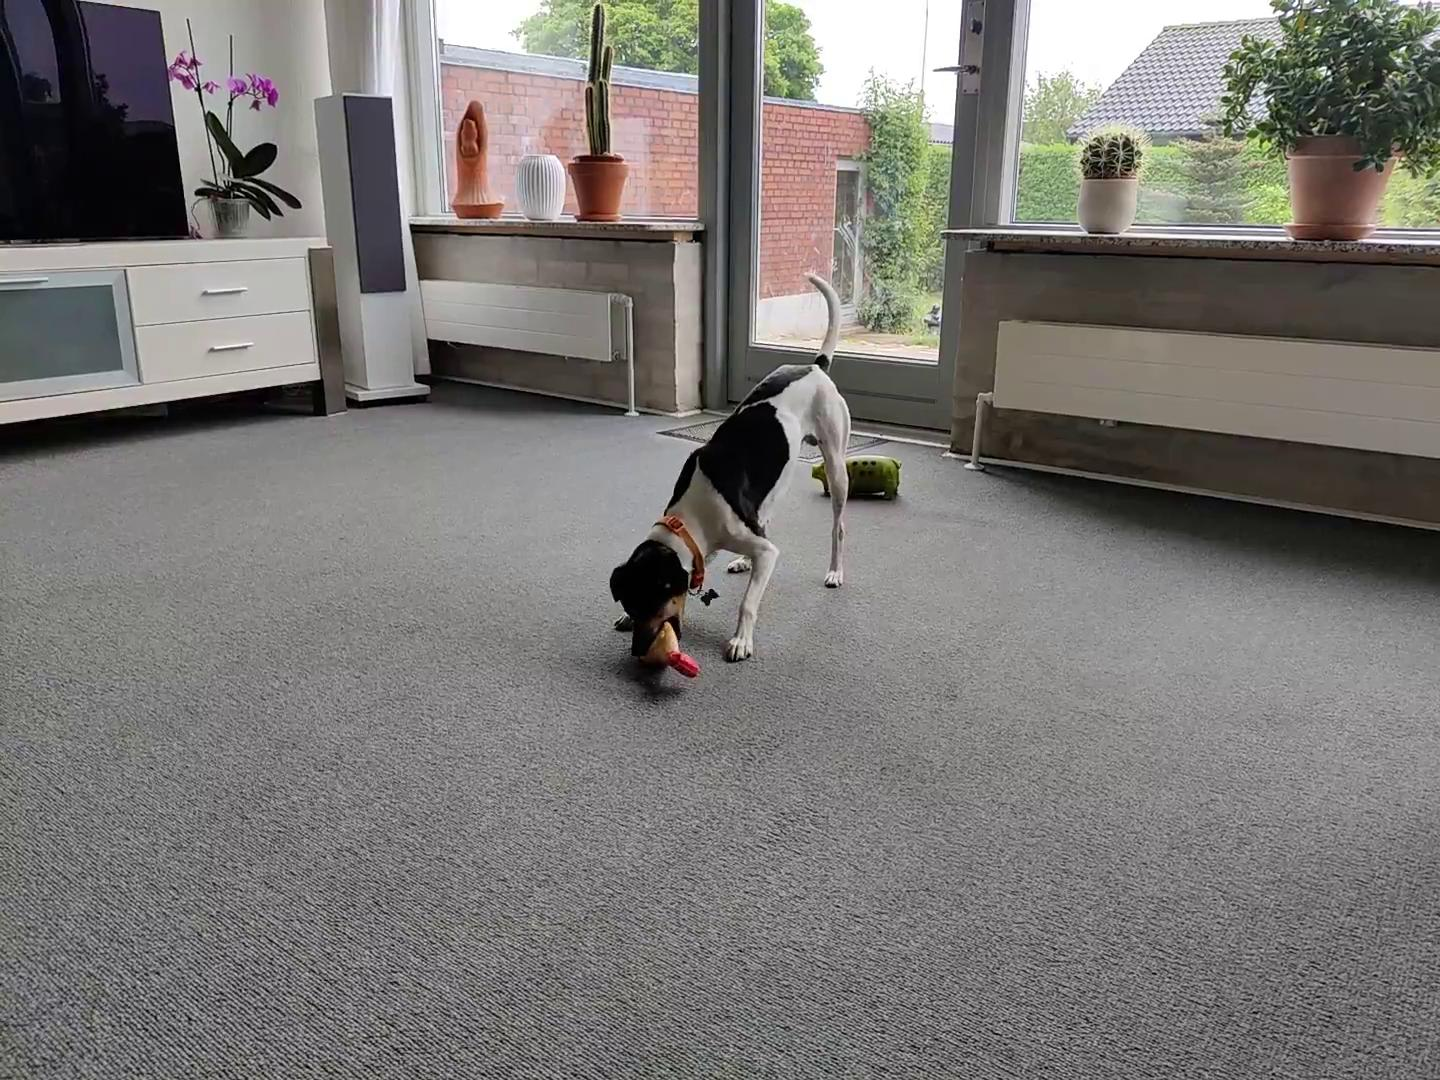Dog: (604, 270, 855, 665)
